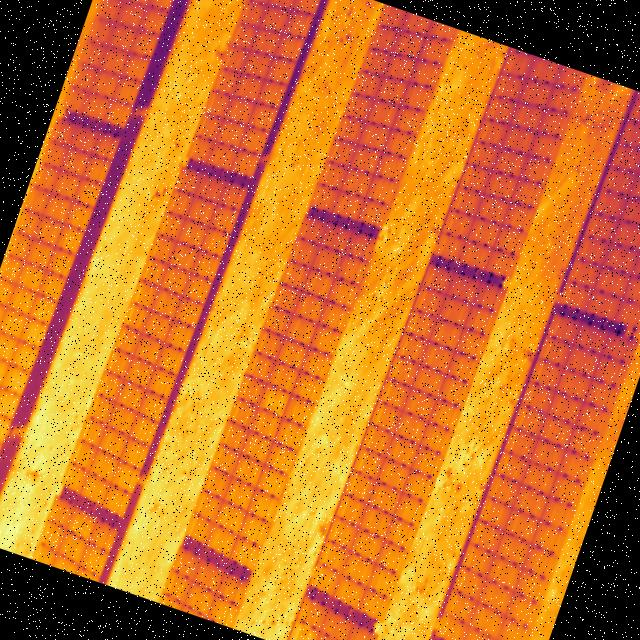Hotspot: (259, 380, 295, 418), (288, 617, 320, 640)
